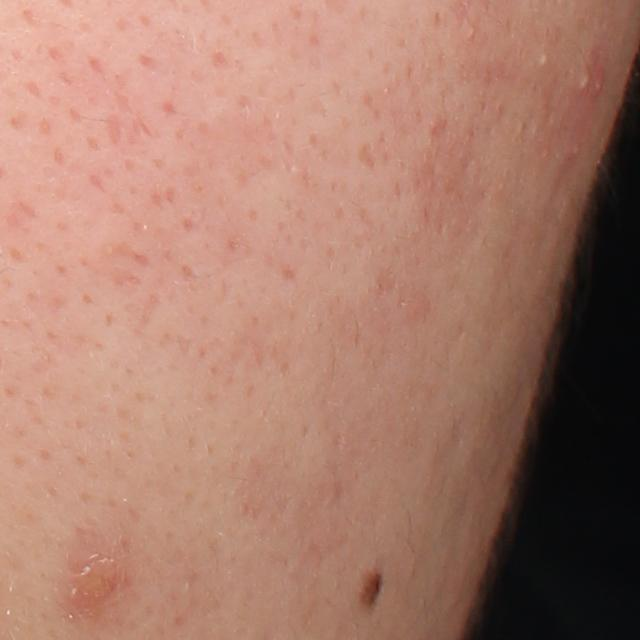atrophic_scar: (359, 140, 374, 172)
comedo: (538, 52, 552, 67)
nevus: (356, 569, 386, 610)
papule: (74, 550, 123, 610)
